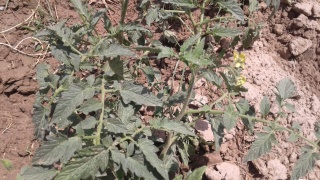tomato flower: (228, 50, 249, 88), (225, 52, 250, 71), (231, 73, 249, 89)
tomato plant: (45, 25, 190, 174), (192, 95, 319, 173)
